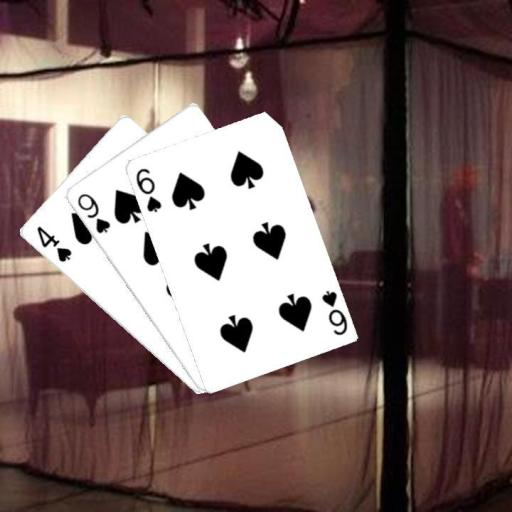4S: (33, 223, 73, 264)
6S: (132, 165, 163, 214), (318, 288, 348, 337)
9S: (73, 190, 112, 235)
